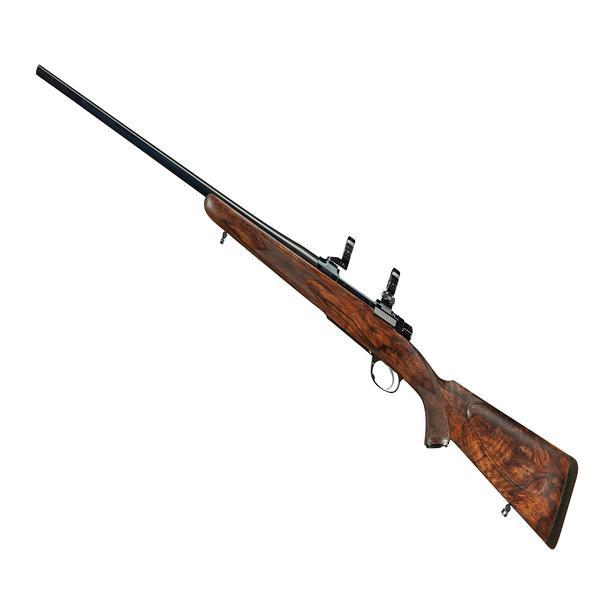Firearm: (20, 53, 590, 557)
